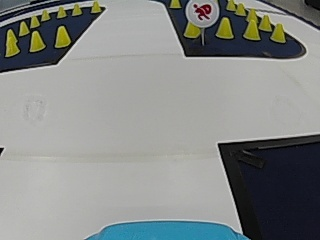thief: (185, 0, 221, 26)
